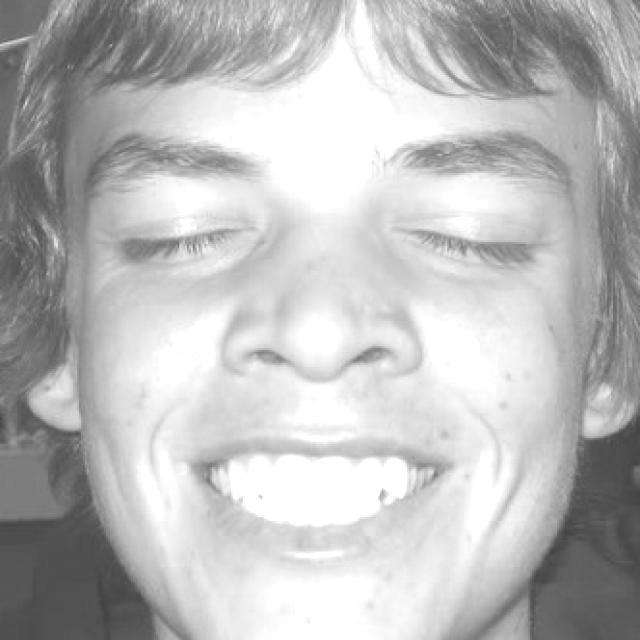real: (82, 21, 512, 640), (112, 178, 546, 294)
